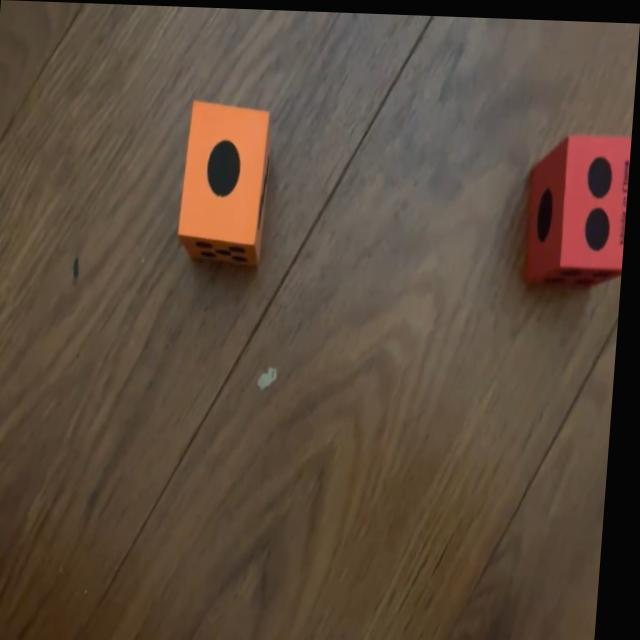cube: (528, 125, 634, 282)
